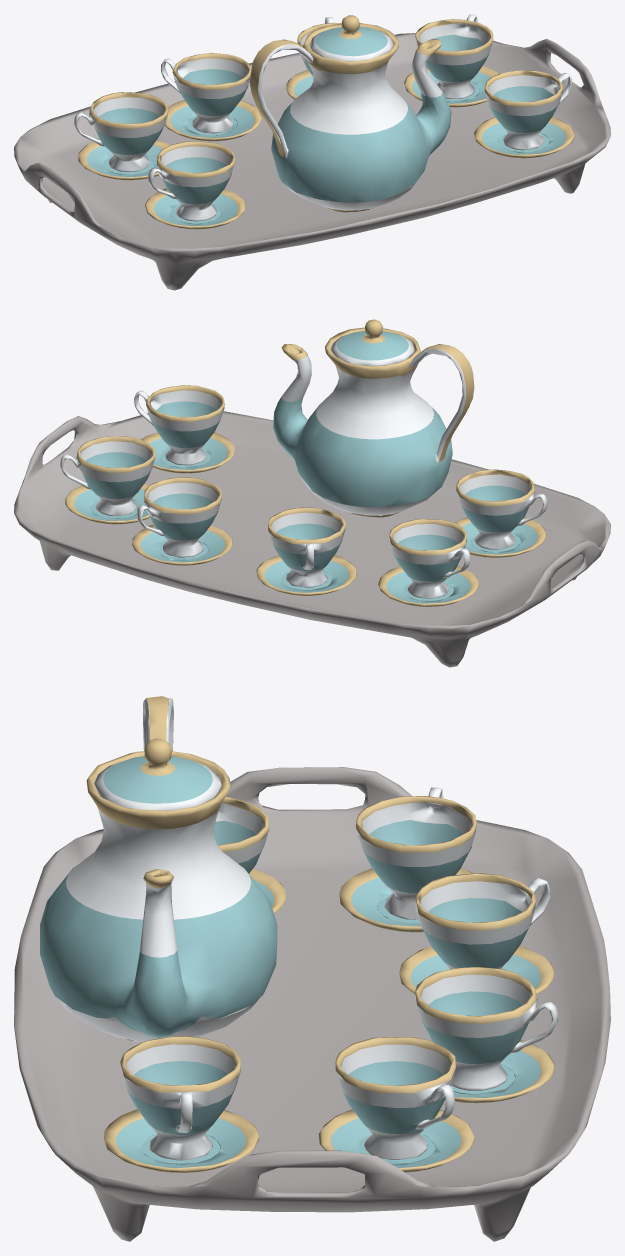
File: tea_set.glb
3 views of the same model, one above another, from view 1: azimuth 30°, elevation 25°; view 2: azimuth 150°, elevation 25°; view 3: azimuth 270°, elevation 25° (orthographic). The views are drawn at different scales.
Visible parts, largest first — view 1: Plane_0; view 2: Plane_0; view 3: Plane_0.
Part boxes in pixels (x1,y1,x2,y2): Plane_0: (14, 14, 610, 290); Plane_0: (14, 319, 610, 667); Plane_0: (14, 696, 610, 1241).
Bounding box in the file's own units: 0.6087 × 0.25 × 0.3964.
